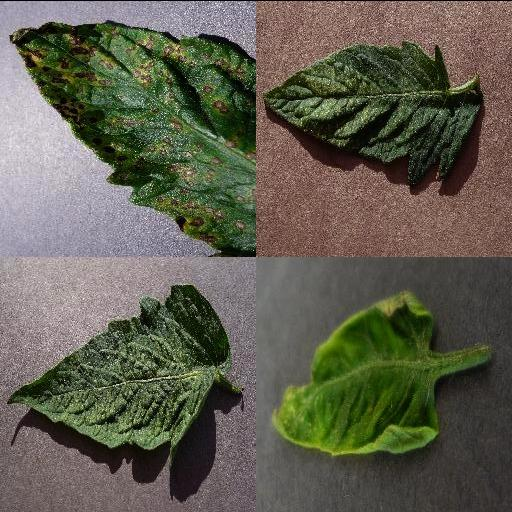Septoria: (10, 19, 256, 254)
Spider Mites: (5, 283, 231, 449), (260, 39, 478, 186)
Yellow Leaf Curl Virus: (270, 291, 442, 455)
